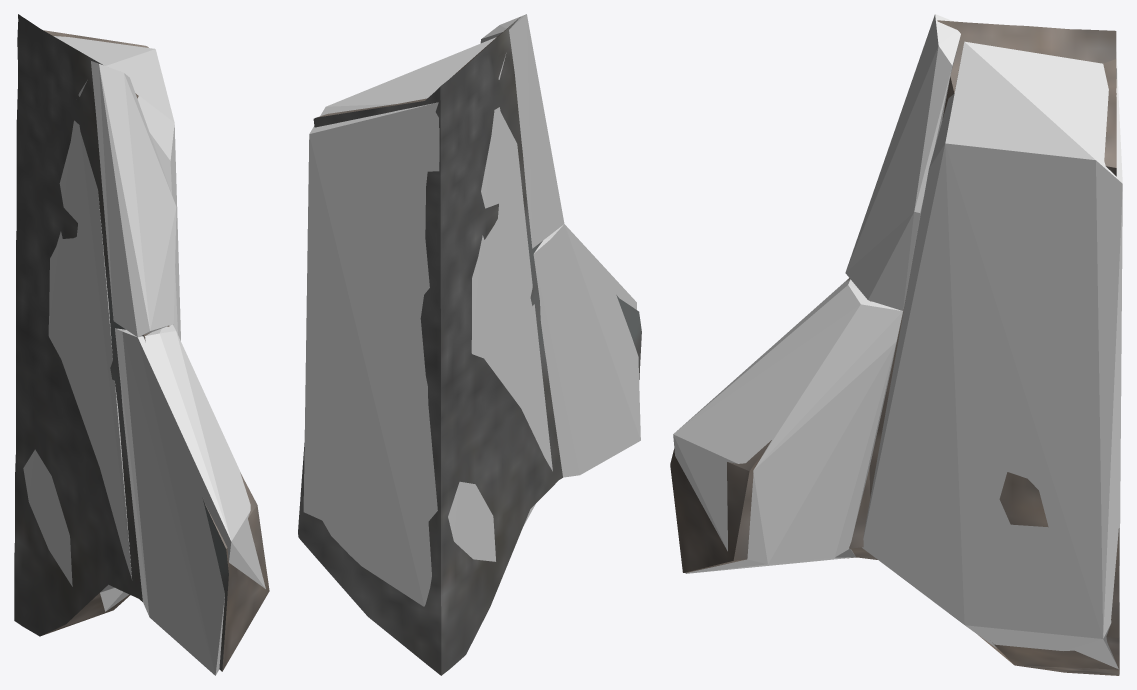
File: SM_Rock_25.fbx
3 views of the same model, side by side, from view 1: azimuth 30°, elevation 25°; view 2: azimuth 150°, elevation 25°; view 3: azimuth 270°, elevation 25° (orthographic). The views are drawn at different scales.
Visible parts, largest first — view 1: SM_Rock_25_ConvexHulls, SM_Rock_25_LOD0; view 2: SM_Rock_25_ConvexHulls, SM_Rock_25_LOD0; view 3: SM_Rock_25_ConvexHulls, SM_Rock_25_LOD0.
Boxes of the visible parts, <box> form: SM_Rock_25_ConvexHulls: <box>23,36,265,675</box>; SM_Rock_25_LOD0: <box>14,14,269,671</box>; SM_Rock_25_ConvexHulls: <box>303,14,640,606</box>; SM_Rock_25_LOD0: <box>298,17,641,675</box>; SM_Rock_25_ConvexHulls: <box>673,14,1122,669</box>; SM_Rock_25_LOD0: <box>670,20,1119,675</box>.
Bounding box in the file's own units: 8.62 × 20.84 × 33.58.
